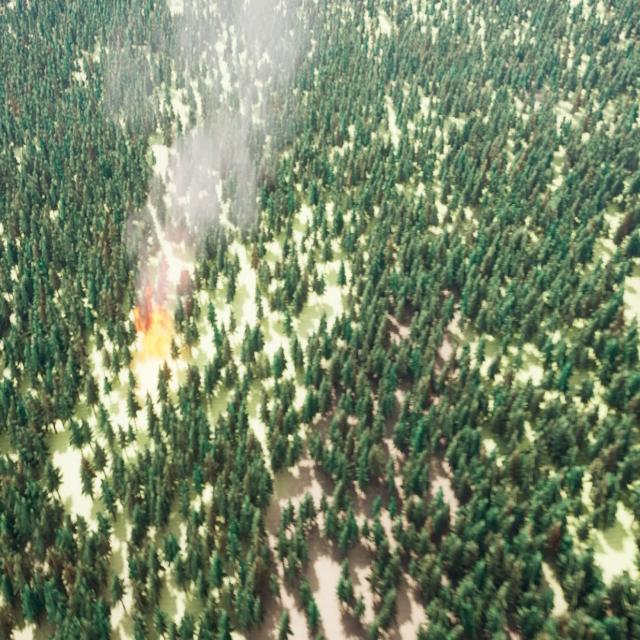fire: (128, 285, 198, 368)
smoke: (100, 0, 308, 283)
